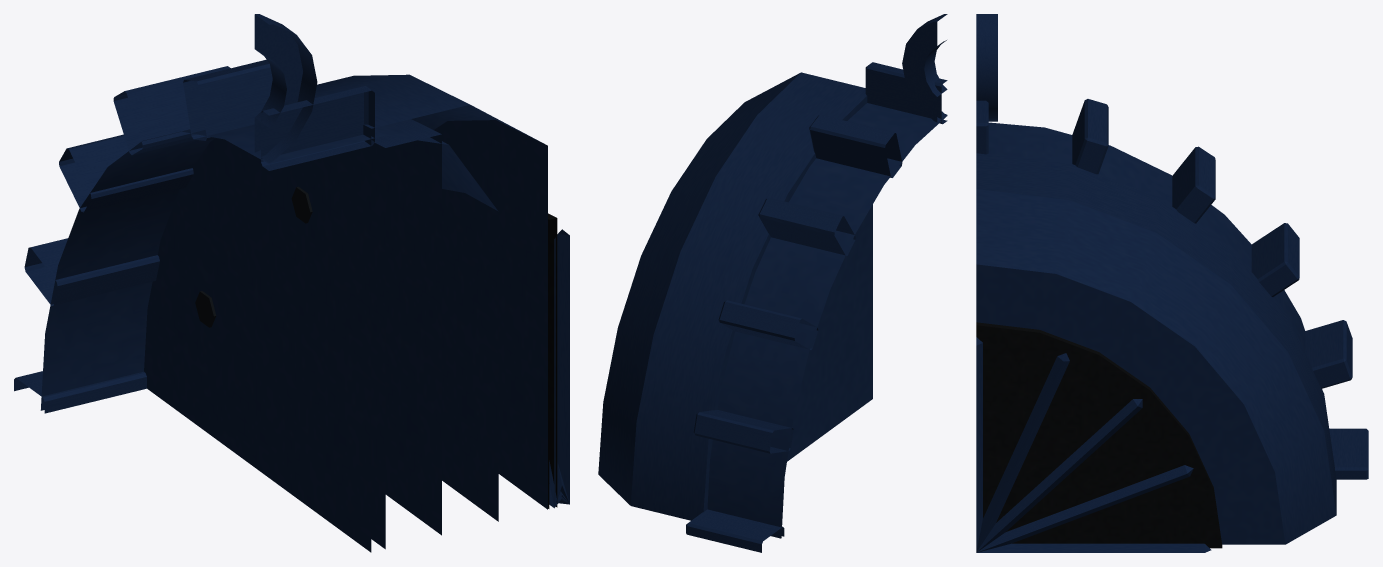
Rendered from cell_17.obj.
The picture shows the model from 3 angles, left to right: view 1: azimuth 30°, elevation 25°; view 2: azimuth 150°, elevation 25°; view 3: azimuth 270°, elevation 25°; orthographic projection. The views are drawn at different scales.
Visible parts, largest first — view 1: cell_17; view 2: cell_17; view 3: cell_17.
Part boxes in pixels (x1=…): cell_17: x1=14, y1=14, x2=569, y2=552; cell_17: x1=598, y1=14, x2=947, y2=552; cell_17: x1=976, y1=14, x2=1368, y2=552.
Bounding box in the file's own units: 0.426 × 0.7487 × 0.6255.
